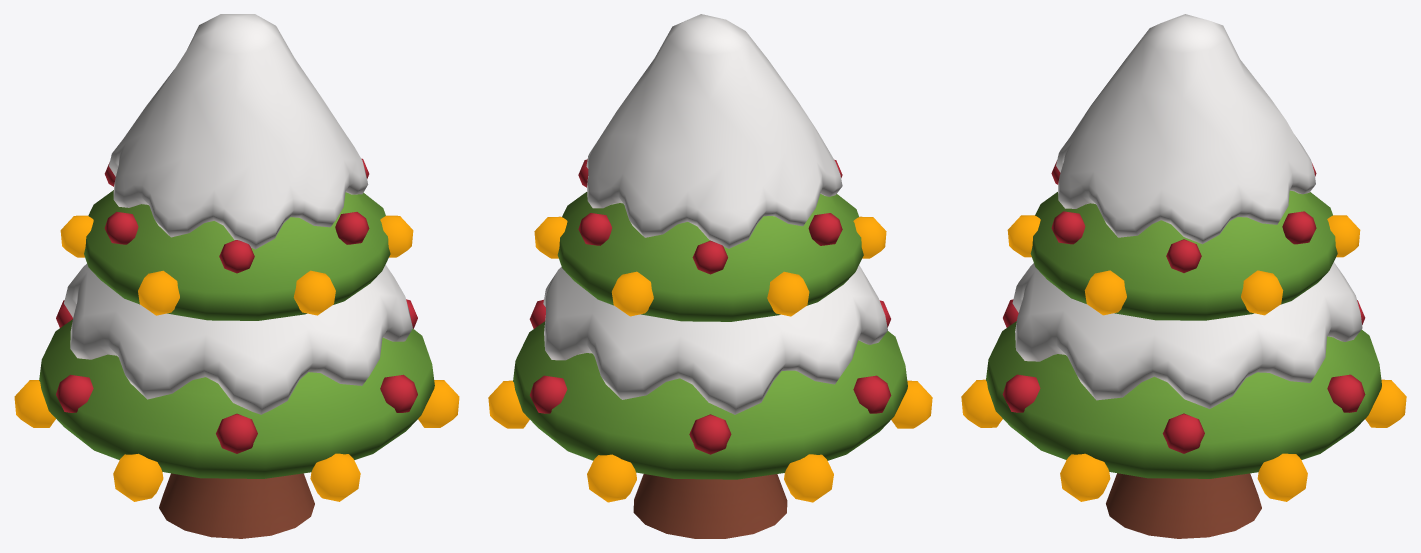
File: Christmass_tree_outdoor_002.glb
3 views of the same model, side by side, from view 1: azimuth 30°, elevation 25°; view 2: azimuth 150°, elevation 25°; view 3: azimuth 270°, elevation 25° (orthographic).
Parts seen in each view (by area): view 1: Christmass_tree_outdoor_002, Christmass_tree_outdoor_002_toys; view 2: Christmass_tree_outdoor_002, Christmass_tree_outdoor_002_toys; view 3: Christmass_tree_outdoor_002, Christmass_tree_outdoor_002_toys.
Part boxes in pixels (box(x1,y1,x2,y2)): Christmass_tree_outdoor_002: box(39, 14, 434, 538); Christmass_tree_outdoor_002_toys: box(14, 158, 459, 501); Christmass_tree_outdoor_002: box(513, 14, 907, 538); Christmass_tree_outdoor_002_toys: box(488, 159, 932, 502); Christmass_tree_outdoor_002: box(986, 14, 1381, 538); Christmass_tree_outdoor_002_toys: box(961, 161, 1406, 501).
Bounding box in the file's own units: 1.88 × 2.45 × 2.03.
Materials: 3 (3 with a texture image).
